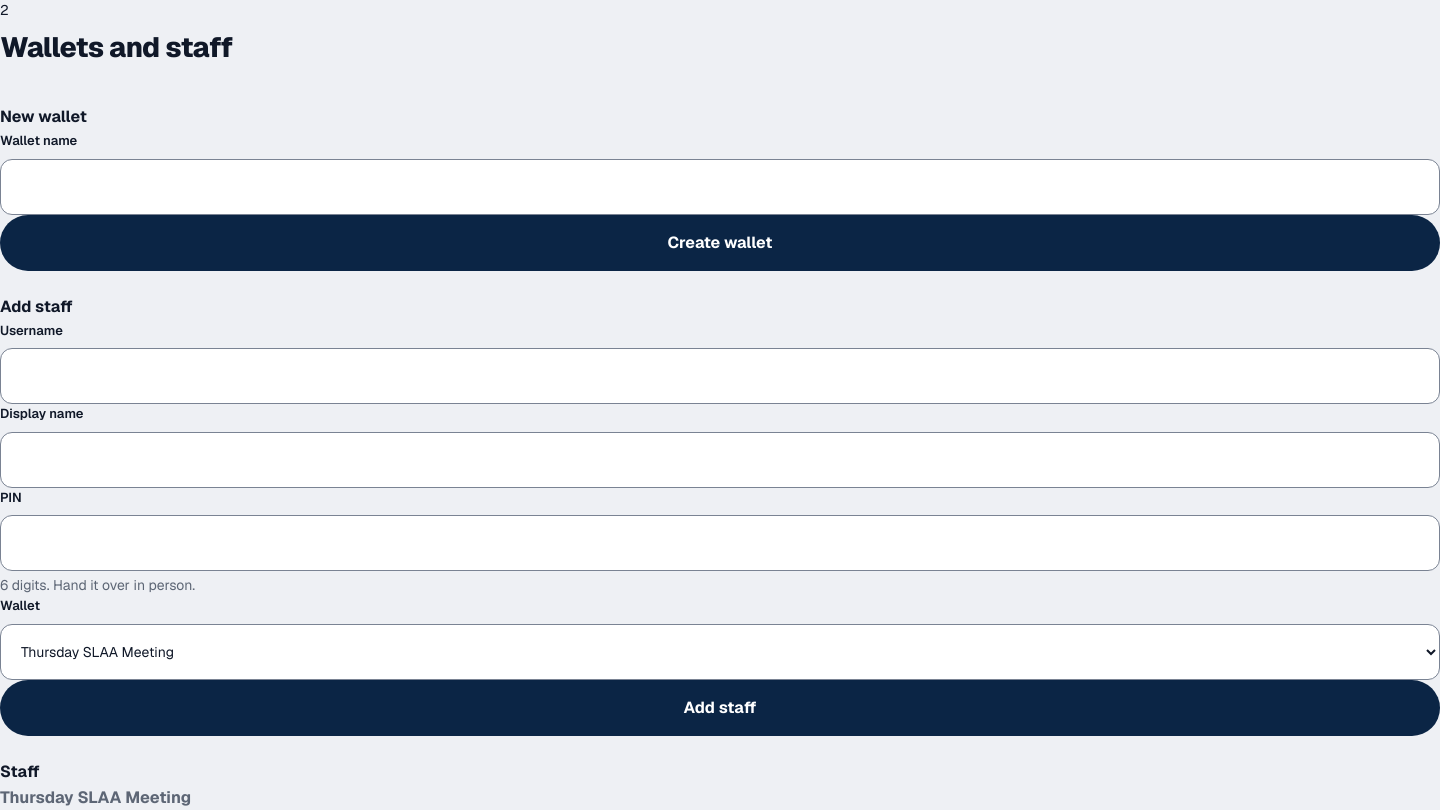
Test: Wallets and staff page and the wallet list › T12b a wallet the owner creates shows up in the wallet list at once, without reloading the app
Expected: the text with test id "wallet-count" reads "2", left=0, top=1, right=9, bottom=19
Type "Autumn Retreat" into the field labelled "Wallet name".
click(720, 186); type("Autumn Retreat")  # box left=0, top=158, right=1439, bottom=214
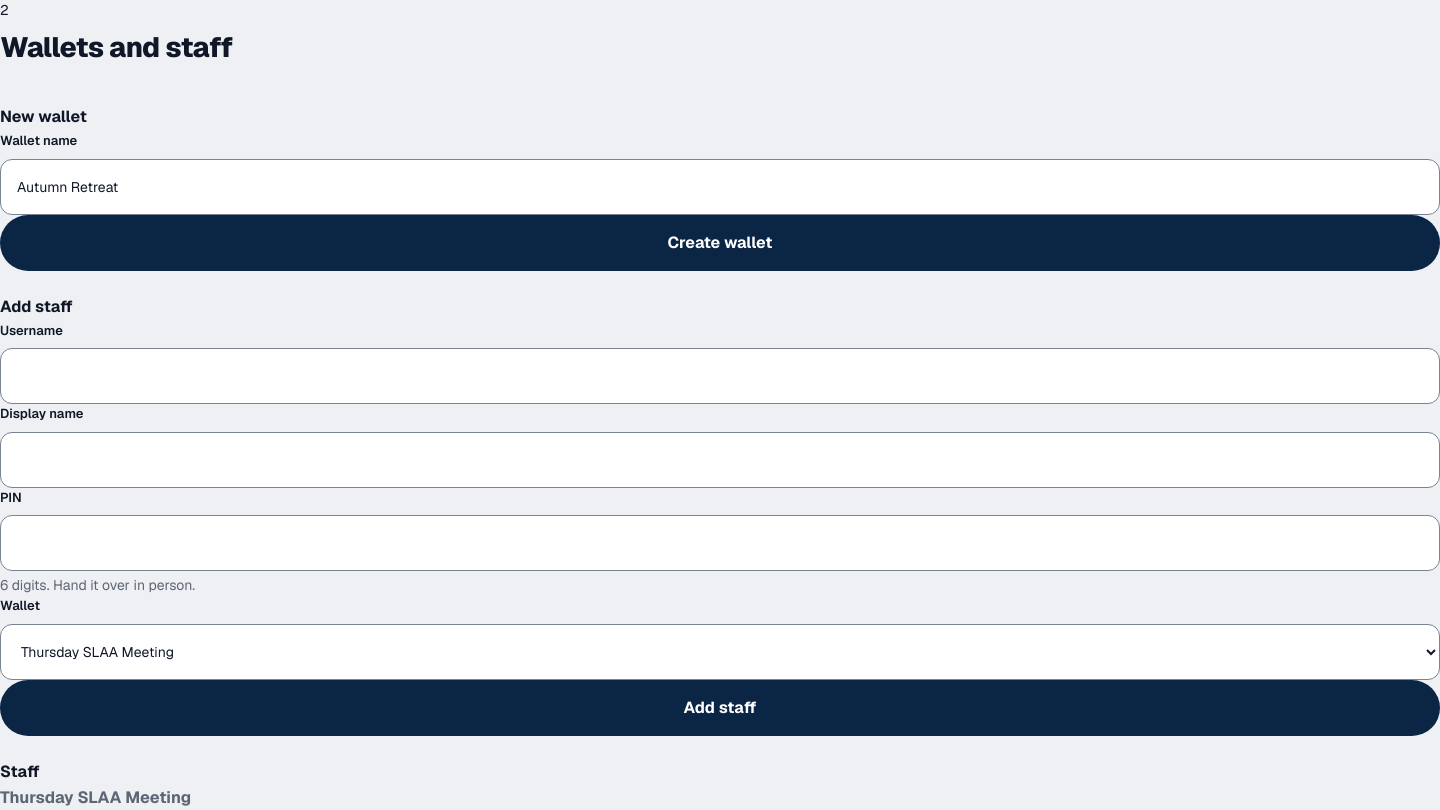
Click the button "Create wallet".
click(720, 242)  # box left=0, top=214, right=1439, bottom=270
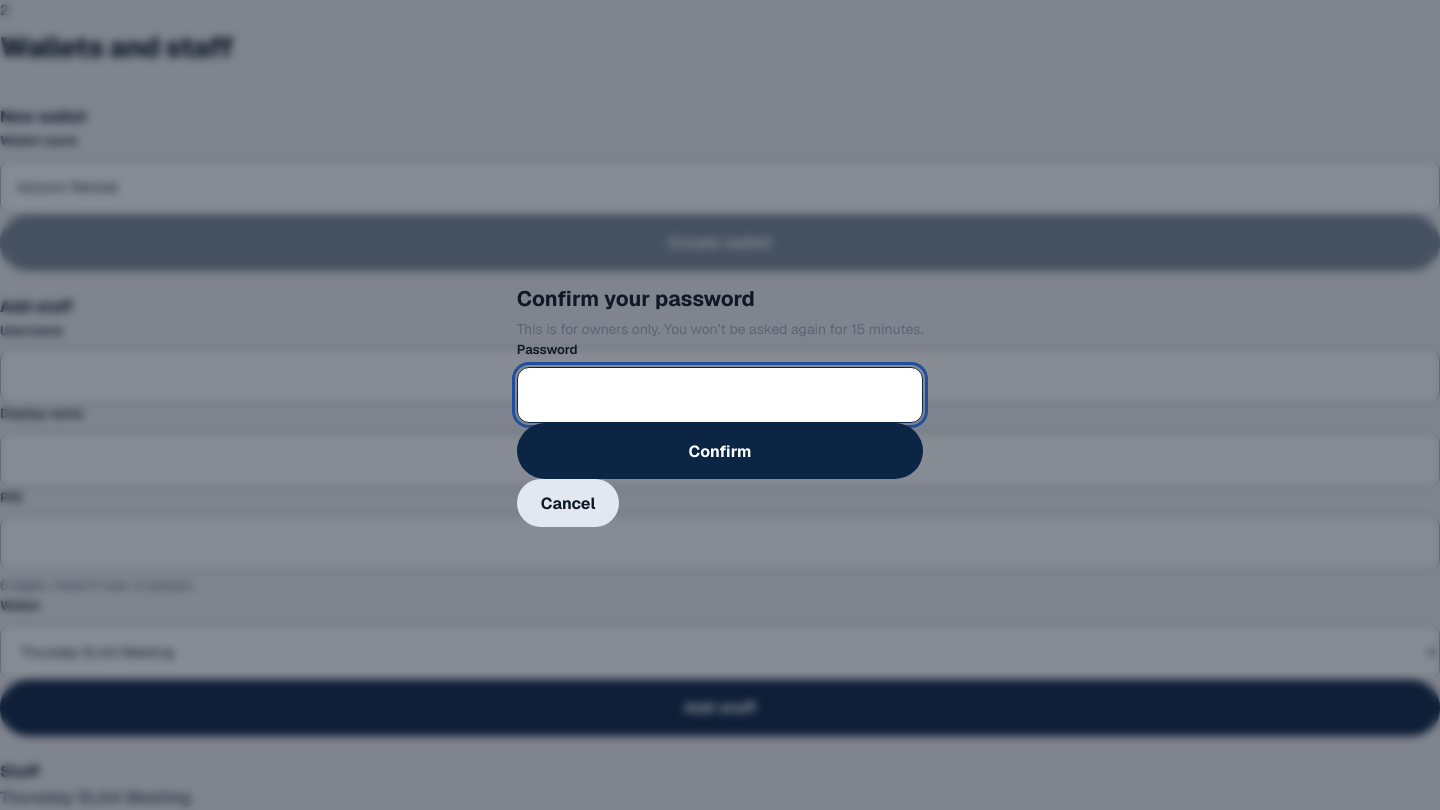
Type "owner-pw" into the password field labelled "Password".
click(720, 395); type("owner-pw")  # box left=517, top=367, right=923, bottom=423
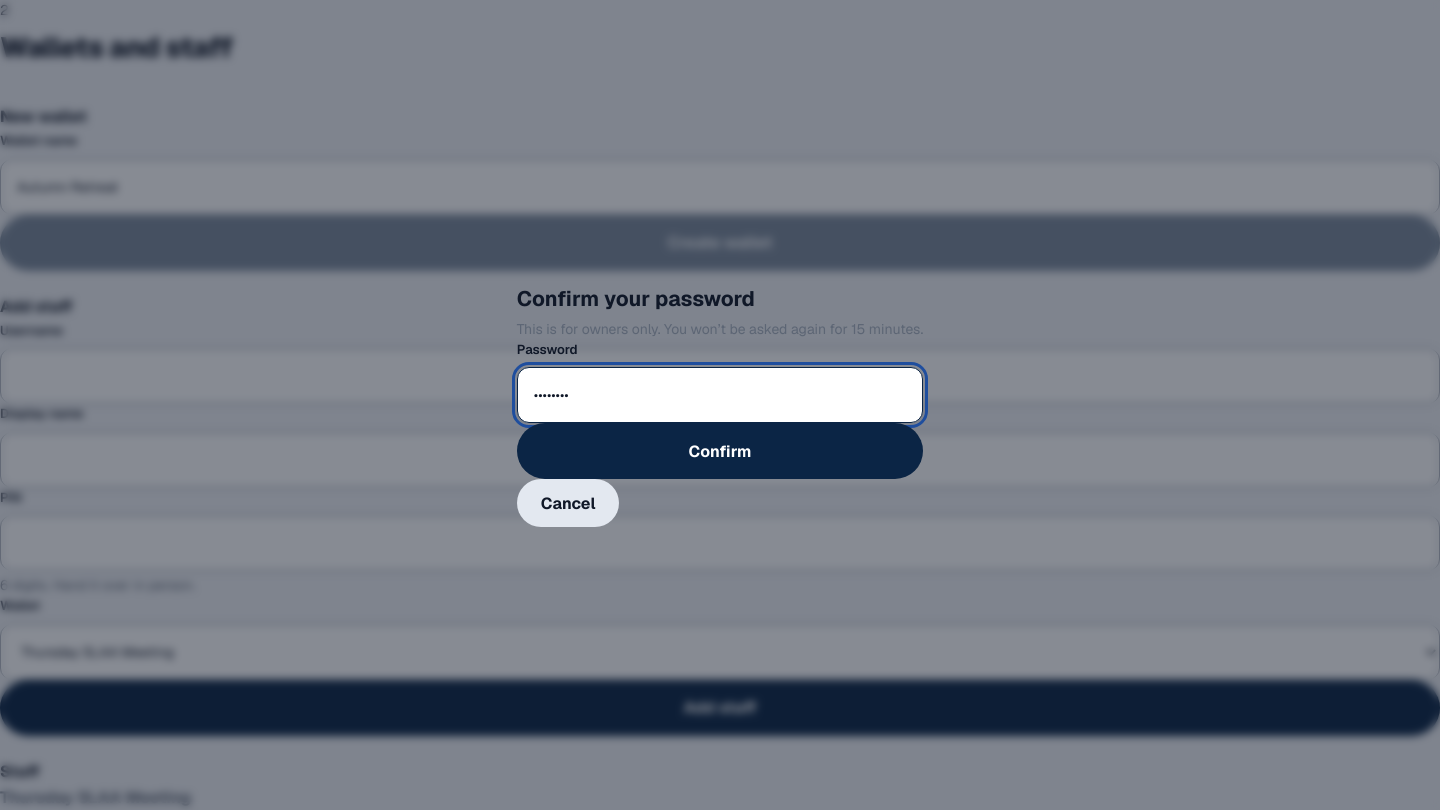
Click the button "Confirm".
click(720, 451)  # box left=517, top=423, right=923, bottom=479
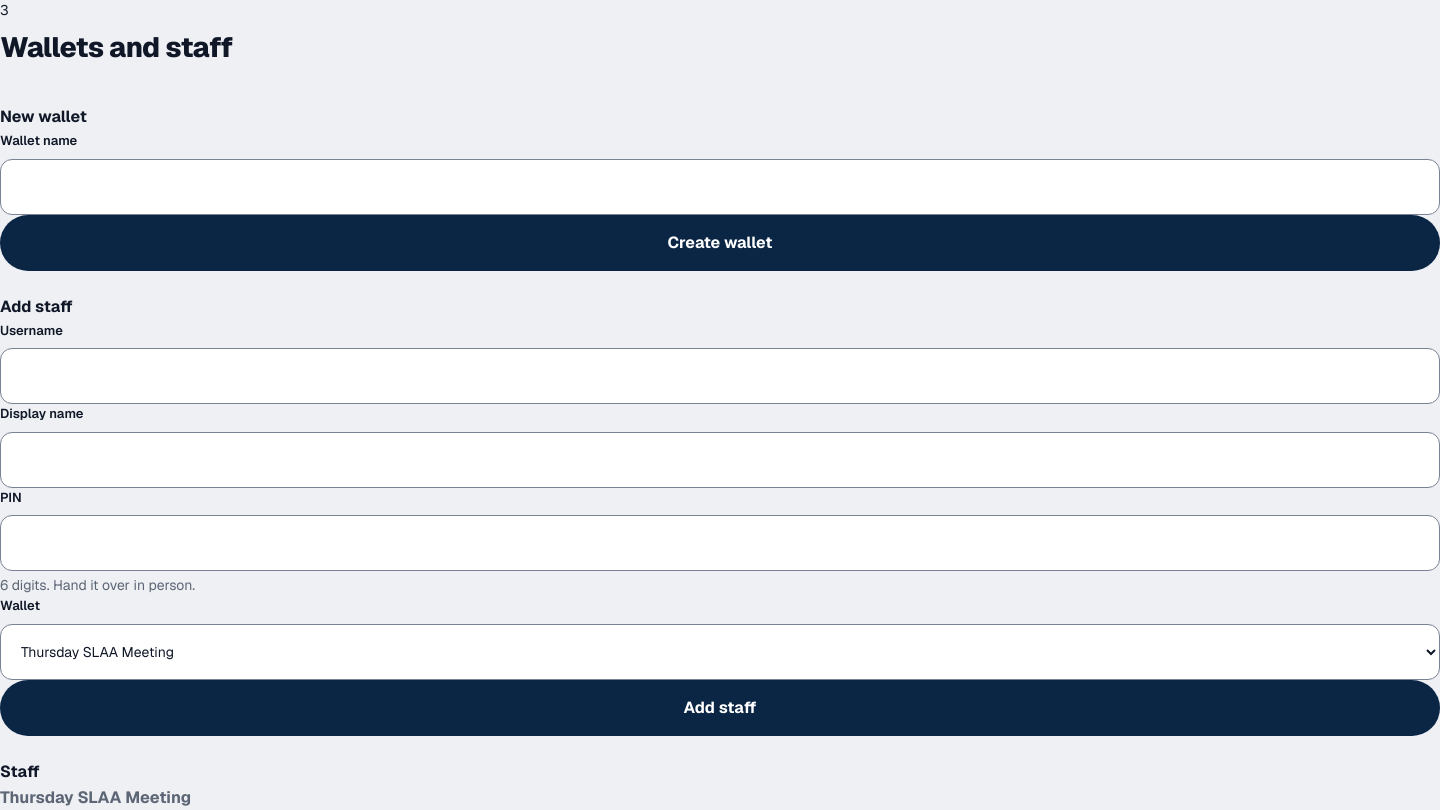
Expected: the text with test id "wallet-count" reads "3", left=0, top=1, right=9, bottom=19
